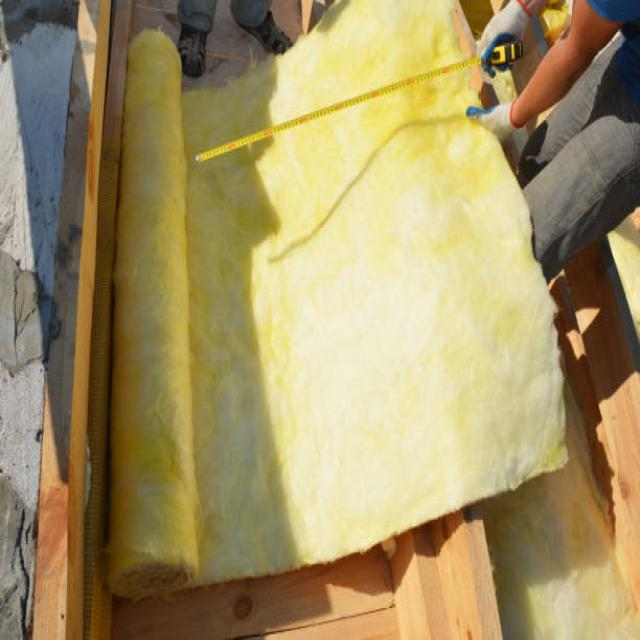gloves: (477, 0, 535, 79), (465, 95, 524, 142)
